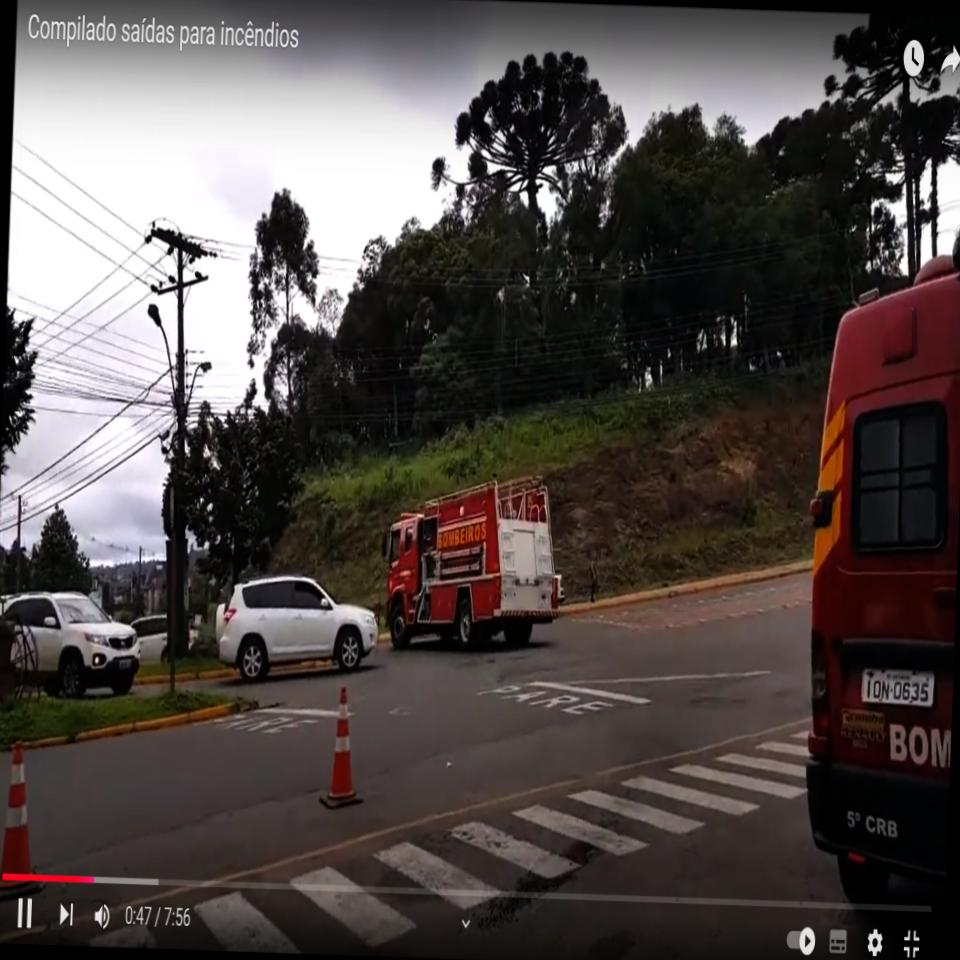viatura: (376, 473, 565, 654)
